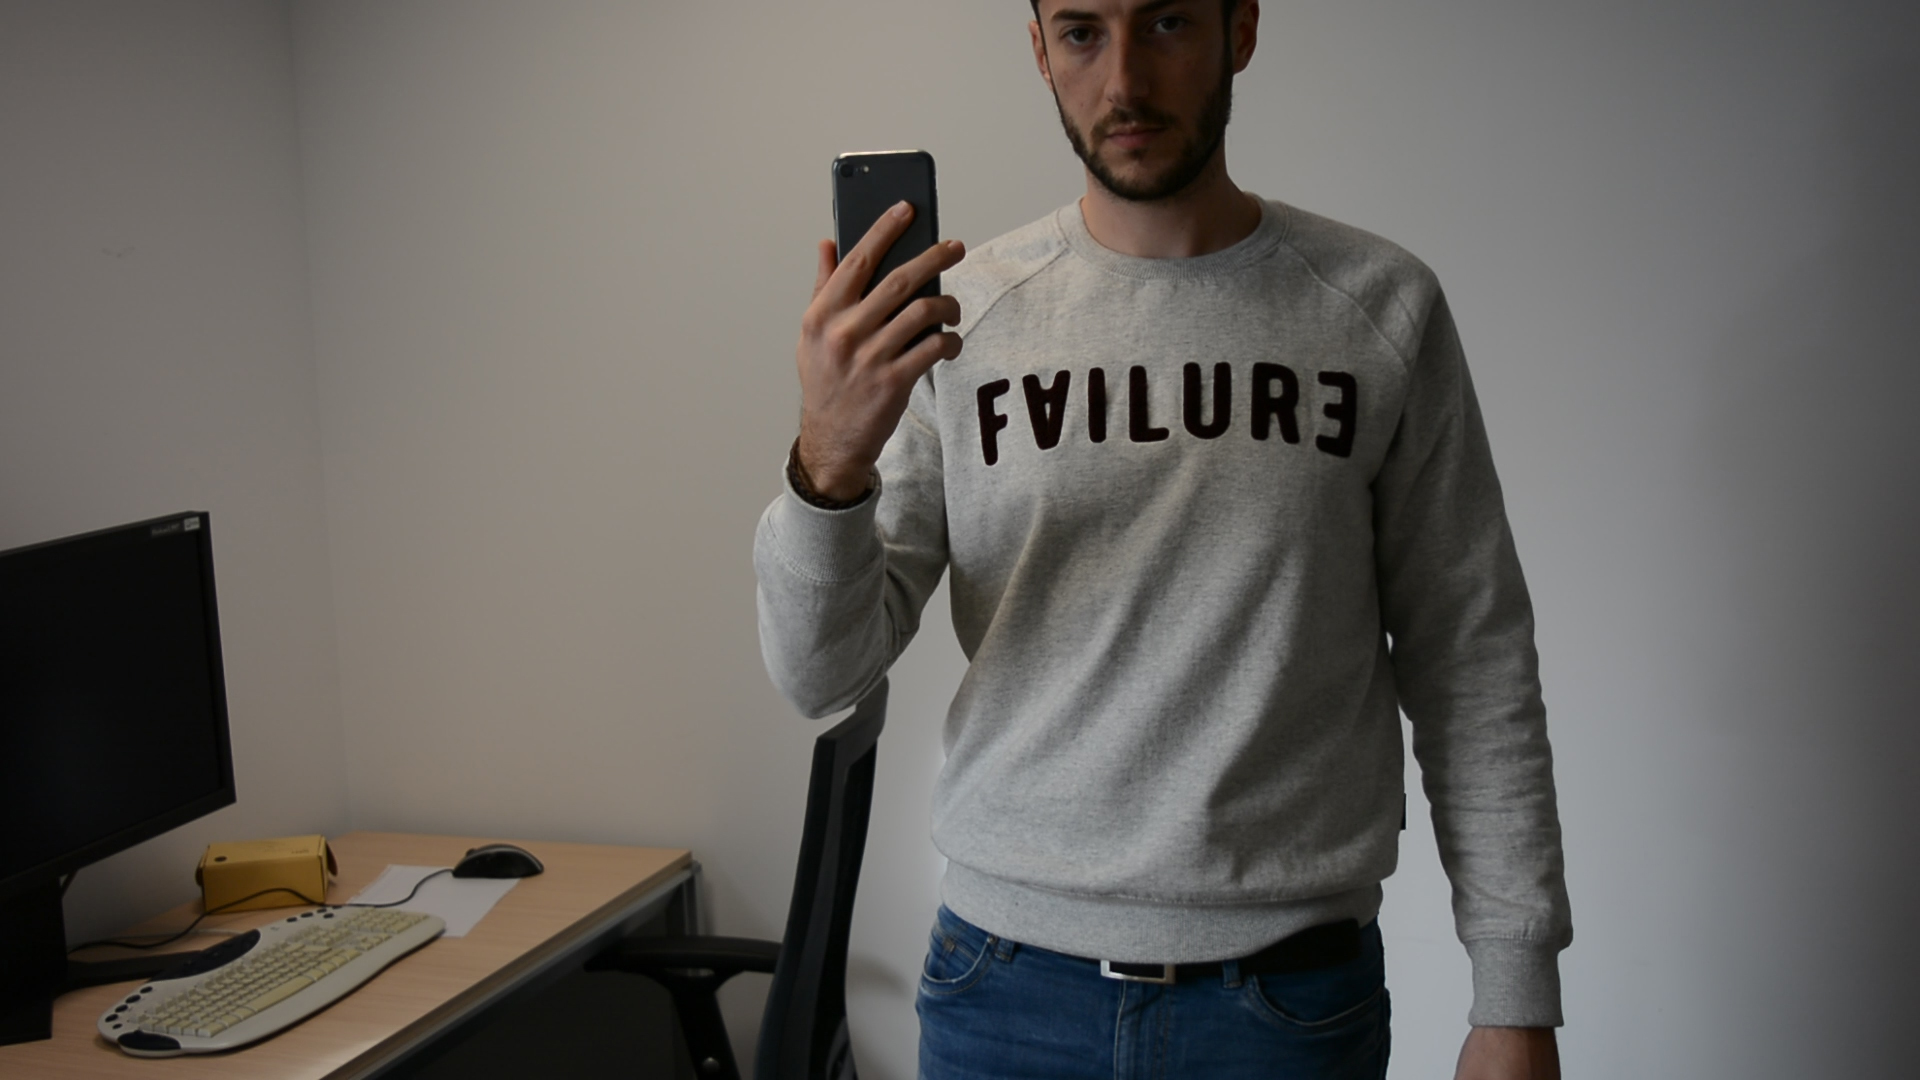smartphone: (829, 148, 945, 356)
